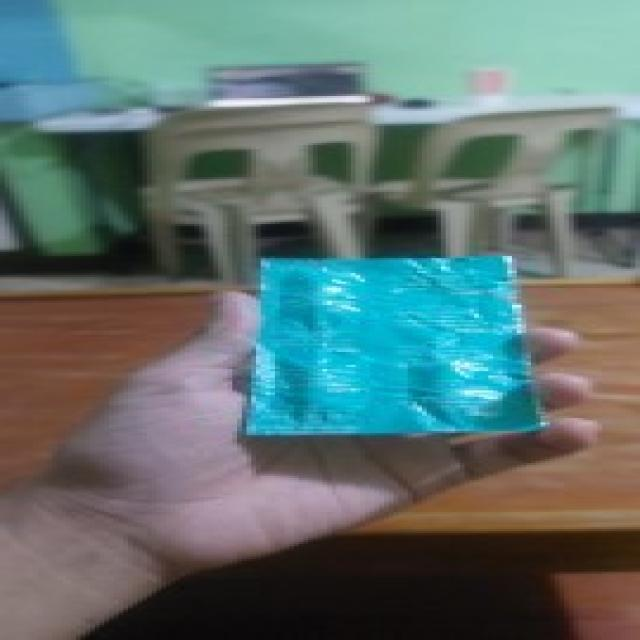Cacat: (237, 254, 540, 436)
